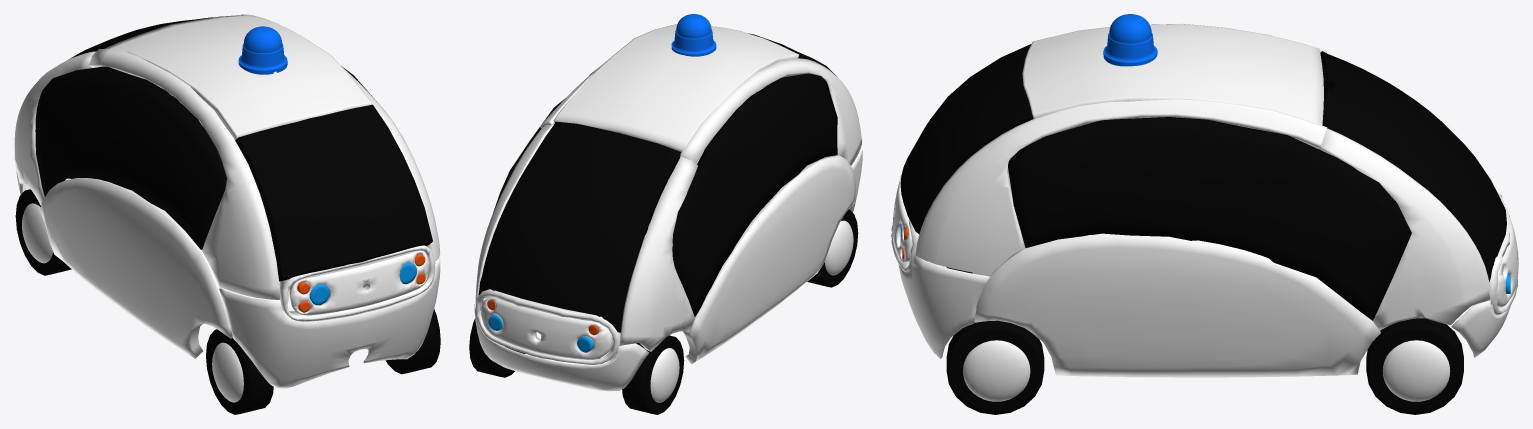
File: milee.dae
The picture shows the model from 3 angles, left to right: view 1: azimuth 30°, elevation 25°; view 2: azimuth 150°, elevation 25°; view 3: azimuth 270°, elevation 25°; orthographic projection. The views are drawn at different scales.
Parts seen in each view (by area): view 1: milley; view 2: milley; view 3: milley.
Boxes of the visible parts, x1=… form: milley: x1=14, y1=14, x2=440, y2=414; milley: x1=469, y1=14, x2=862, y2=414; milley: x1=891, y1=14, x2=1518, y2=414.
Size of the model in its own units: 42.62 by 55.02 by 90.19.
